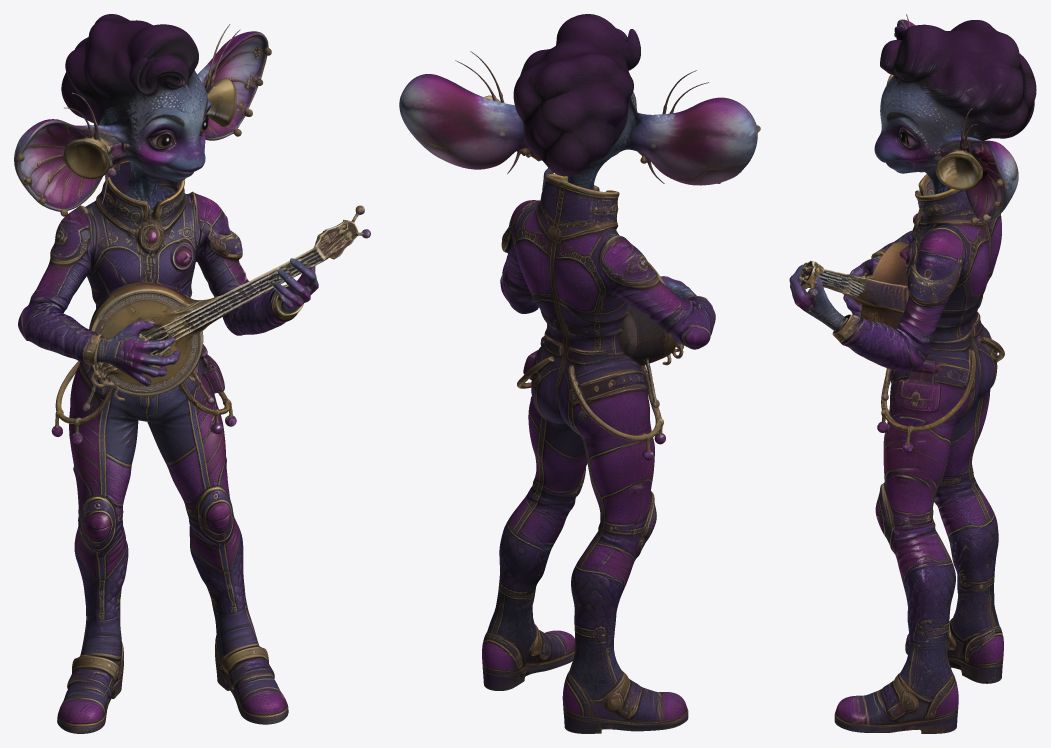
Rendered from wpieberry.glb.
3 renders of one model, left to right at view 1: azimuth 30°, elevation 25°; view 2: azimuth 150°, elevation 25°; view 3: azimuth 270°, elevation 25°, orthographic. The views are drawn at different scales.
Bounding box in the file's own units: 0.9049 × 1.9 × 0.6426.
1 material, 1 textured.
